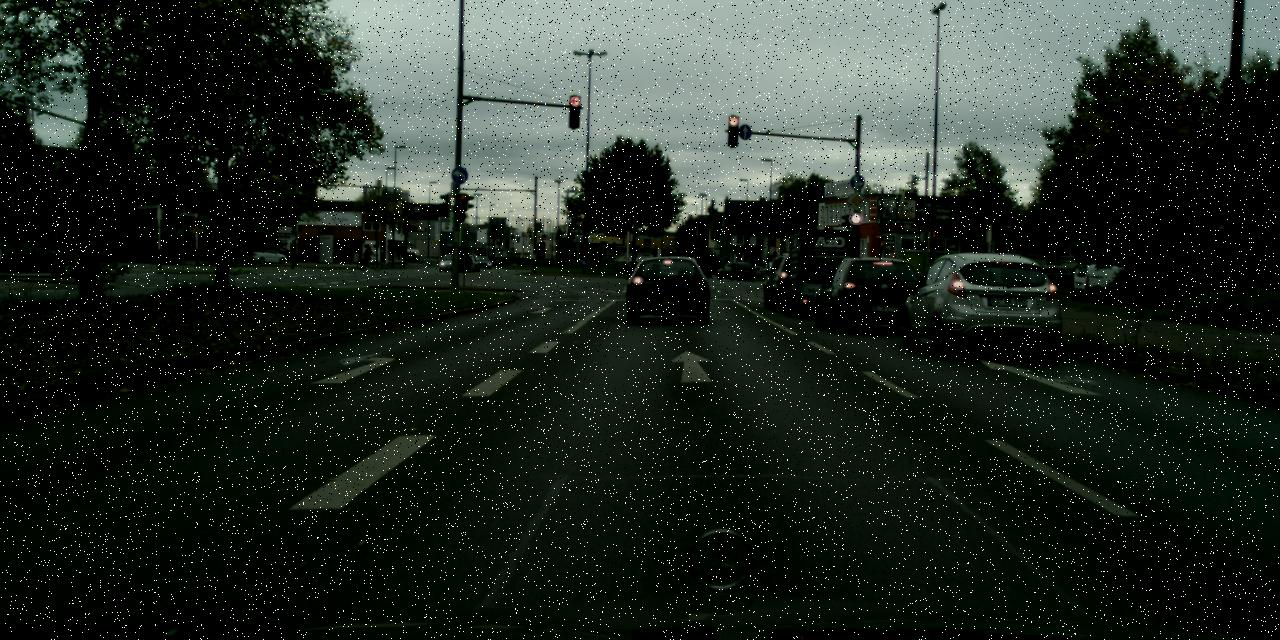ped: (364, 245, 371, 263)
